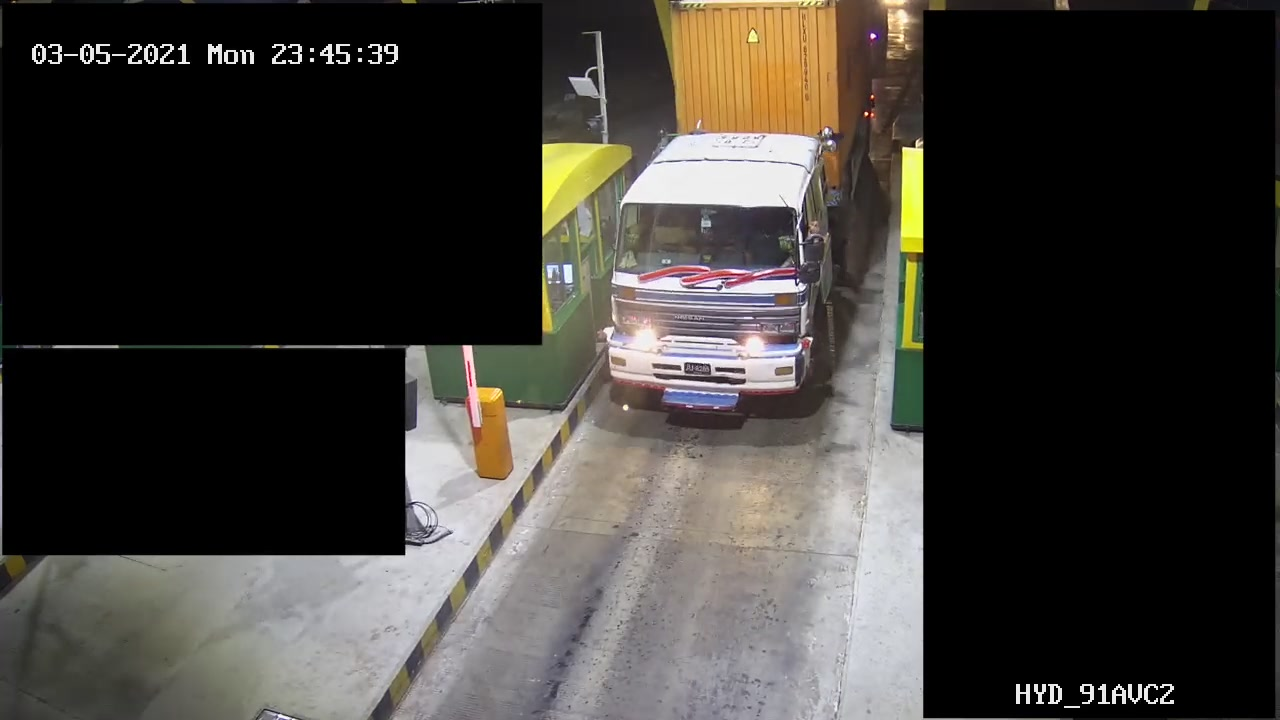F6: (596, 1, 896, 428)
